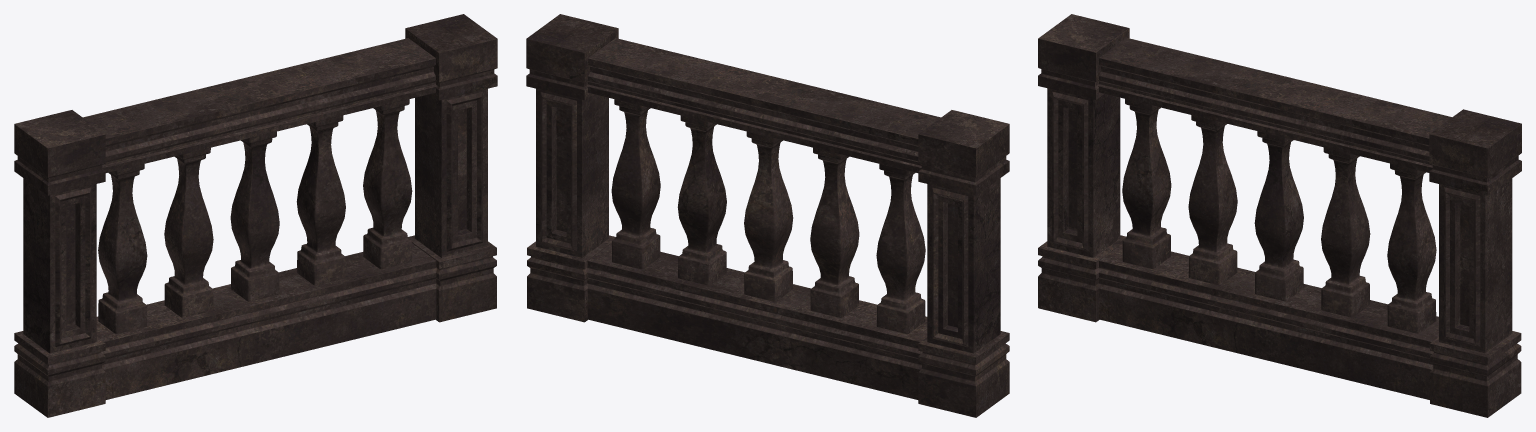
Rendered from SK3 RAILING SHORT.fbx.
The picture shows the model from 3 angles, left to right: view 1: azimuth 30°, elevation 25°; view 2: azimuth 150°, elevation 25°; view 3: azimuth 330°, elevation 25°; orthographic projection.
Visible parts, largest first — view 1: SK3 RAILING SHORT; view 2: SK3 RAILING SHORT; view 3: SK3 RAILING SHORT.
Part boxes in pixels (x1,y1,x2,y2): SK3 RAILING SHORT: (14, 14, 497, 417); SK3 RAILING SHORT: (526, 14, 1009, 417); SK3 RAILING SHORT: (1038, 14, 1521, 417).
Bounding box in the file's own units: 200 × 114 × 26.11.
